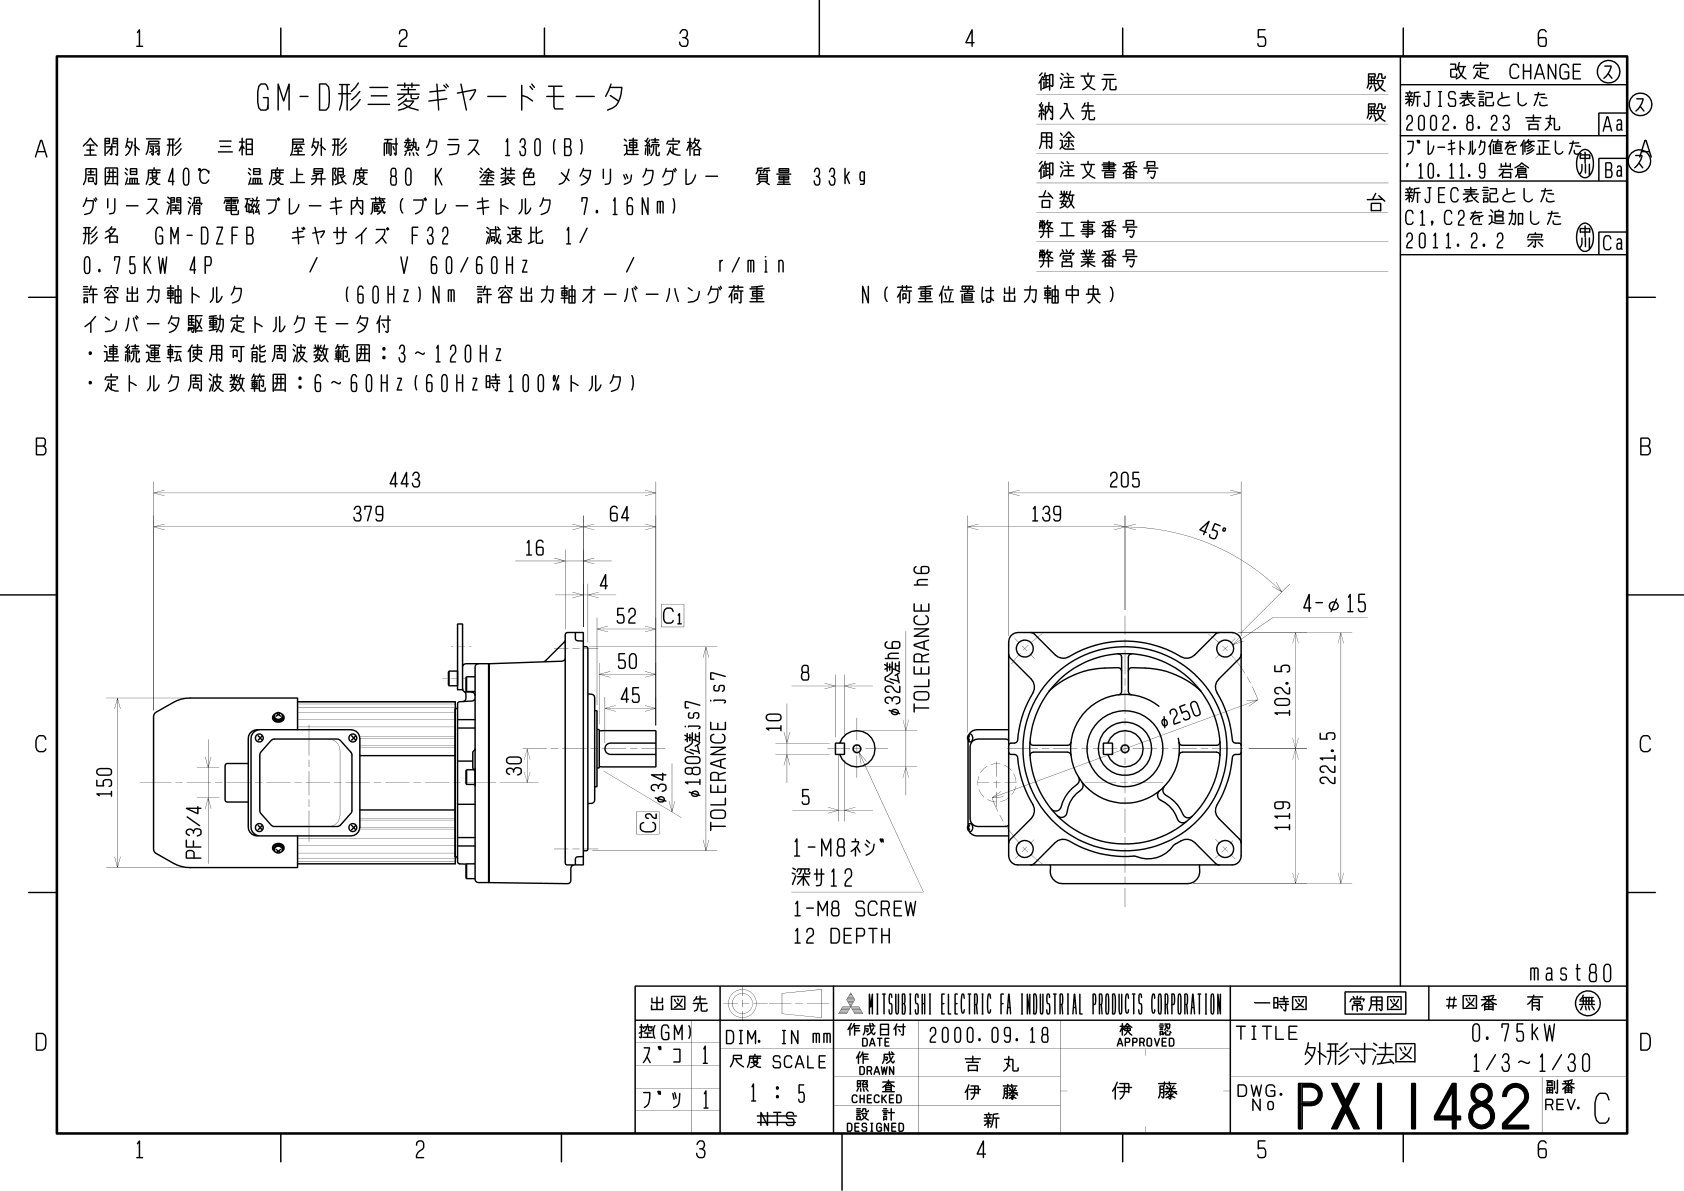GM_D_インバータ屋外_三相_フランジ: (1, 1, 1669, 1181)
